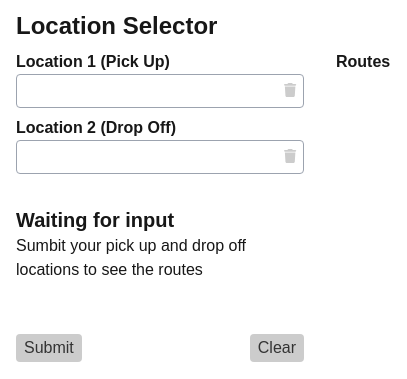
Scenario: Home › display info of in-progress
Type "Location A" into the field named "location_0" below "Location 1 (Pick Up)".
click(160, 91); type("Location A")  # box [16,74,304,108]
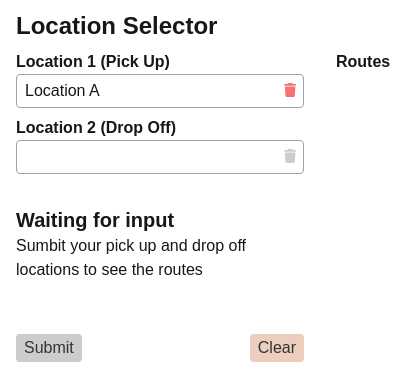
Type "Location B" into the field named "location_1" below "Location 2 (Drop Off)".
click(160, 157); type("Location B")  # box [16,140,304,174]
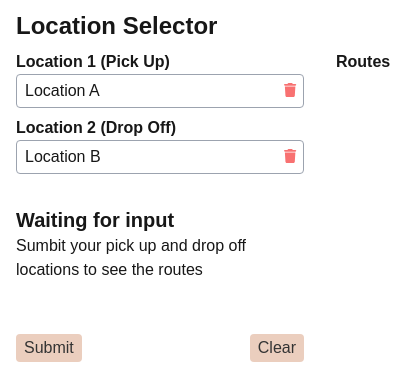
Click the button with class "submit".
click(49, 348)  # box [16,334,82,362]
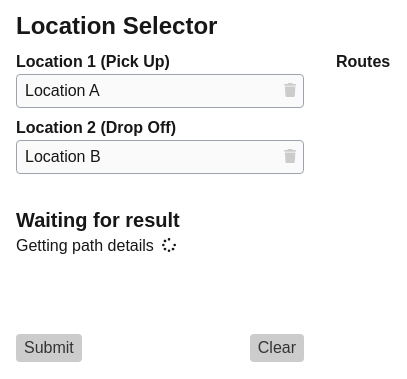
Now the heading "Waiting for result" is shown, box [16,209,180,231]
Now the text "Getting path details" is shown, box [16,237,176,254]
